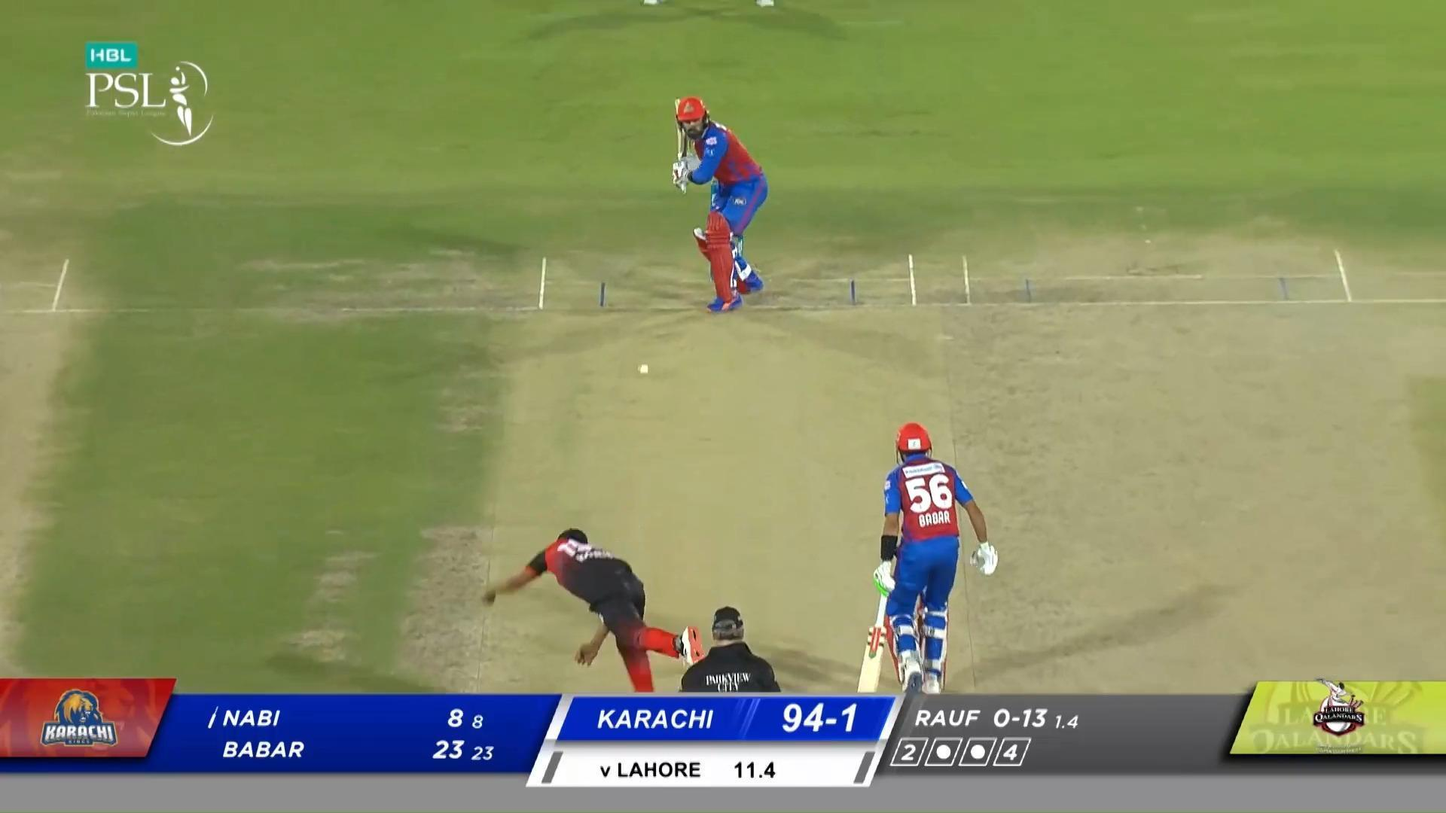BM 1: (670, 94, 769, 314)
BO: (481, 529, 706, 693)
